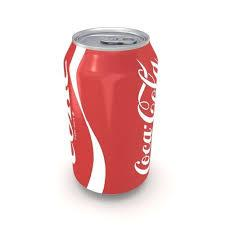Aluminum can: (58, 18, 164, 193)
